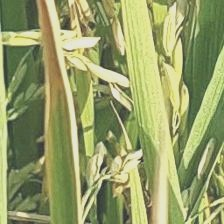Leaf_Blast: (28, 1, 87, 207)
